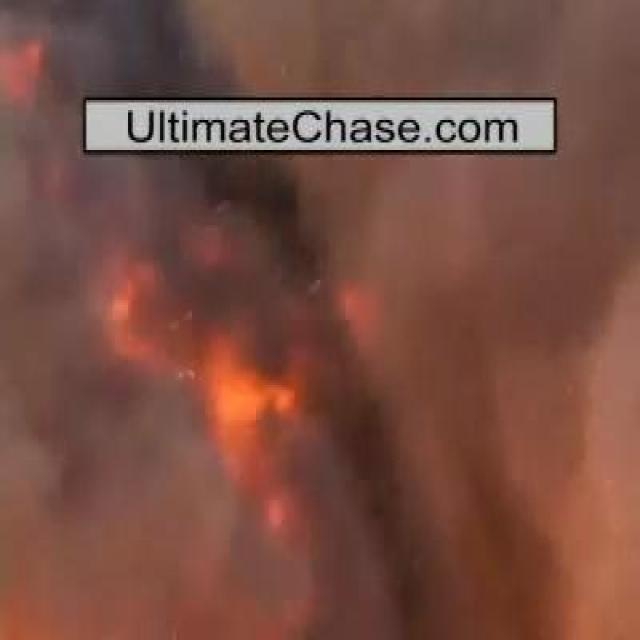Smoke: (22, 164, 581, 611)
